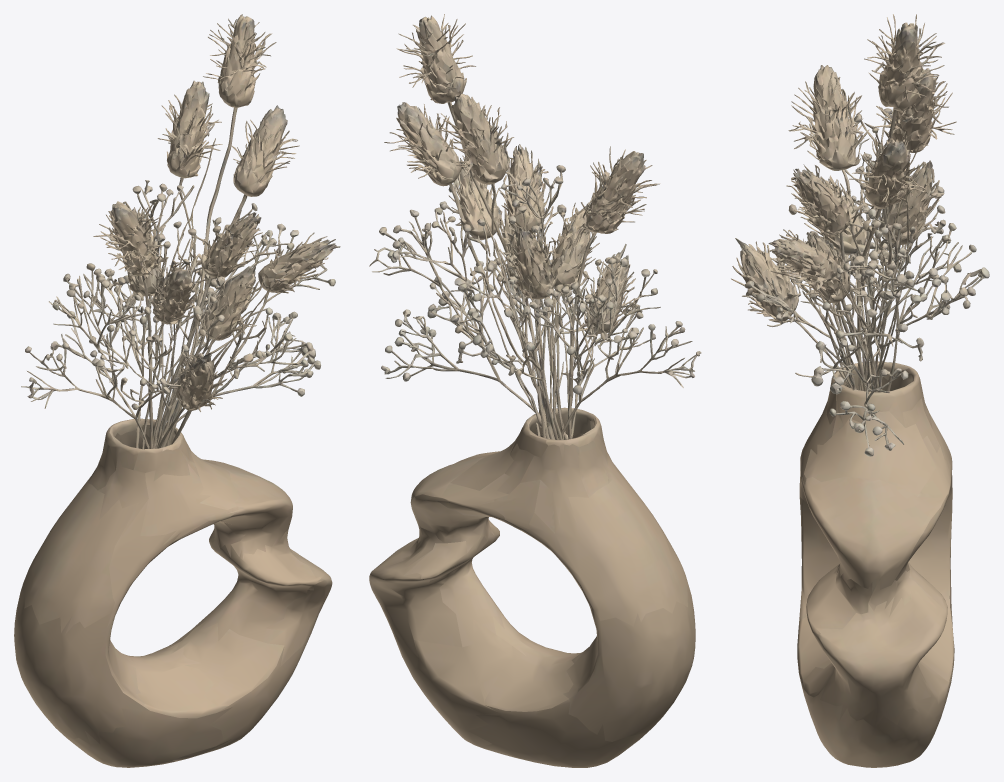
Rendered from Skewed Vase.glb.
3 renders of one model, left to right at view 1: azimuth 30°, elevation 25°; view 2: azimuth 150°, elevation 25°; view 3: azimuth 270°, elevation 25°, orthographic. The views are drawn at different scales.
Size of the model in its own units: 0.8792 by 1.9 by 0.5882.
Materials: 1 (1 with a texture image).
